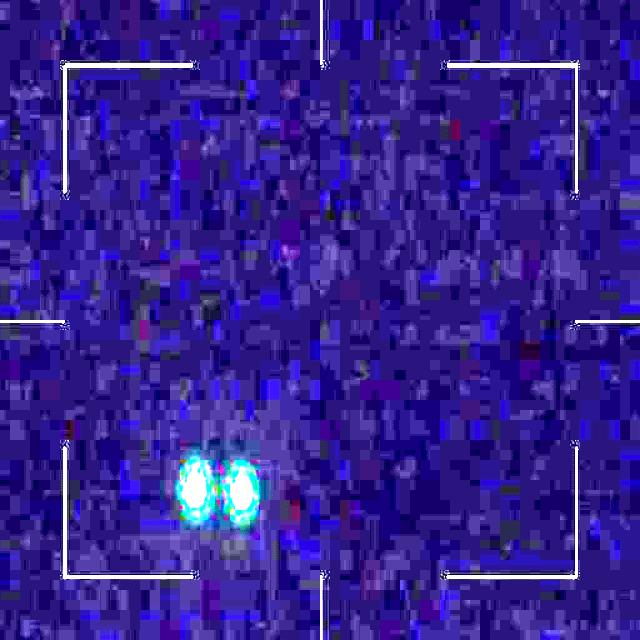bird: (182, 461, 255, 519)
